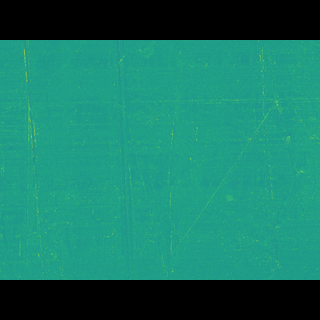Loch: (0, 85, 320, 241), (18, 70, 81, 246), (253, 79, 313, 236), (112, 69, 145, 248)
